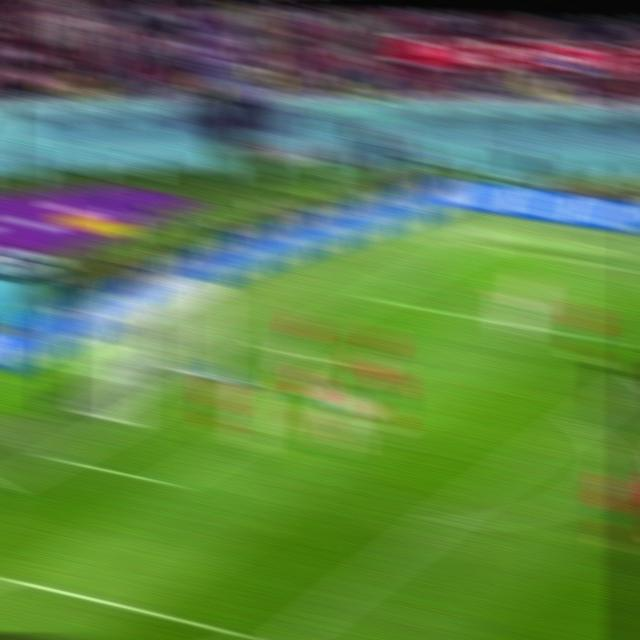bigarea_bottom_inner: (252, 615, 303, 640)
bigarea_top_outter: (358, 288, 388, 307)
bottom_arc_area_intersection: (419, 504, 461, 543)
corner: (461, 240, 492, 254)
smallarea_bottom_inner: (150, 465, 187, 500)
smallarea_bottom_outter: (40, 445, 73, 470)
smallarea_top_outter: (255, 338, 285, 357)
top_arc_area_intersection: (562, 410, 594, 435)
